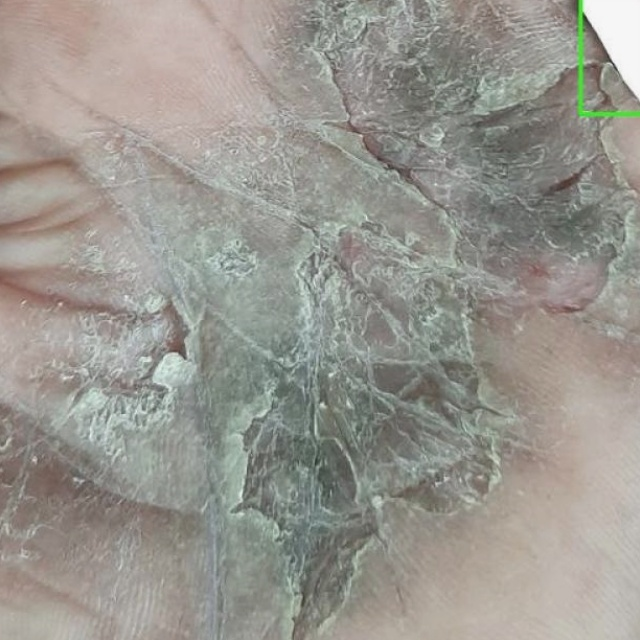Contact Dermatitis: (580, 0, 639, 114)
